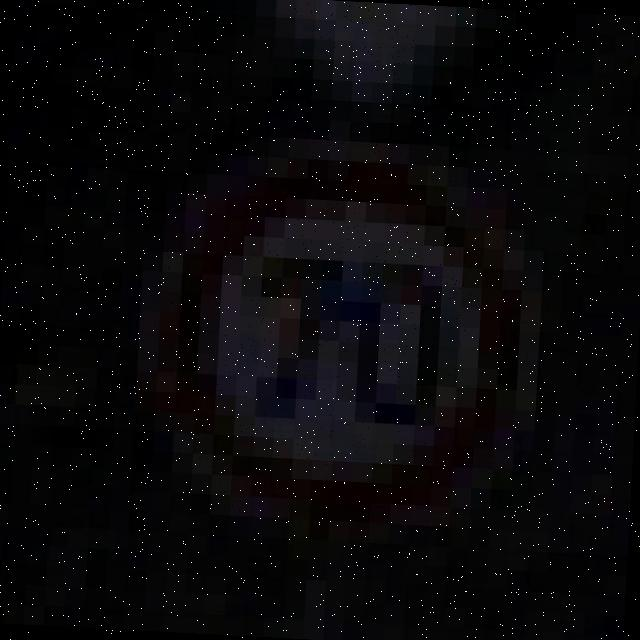Ograniczenie predkosci do 70: (165, 148, 524, 528)
